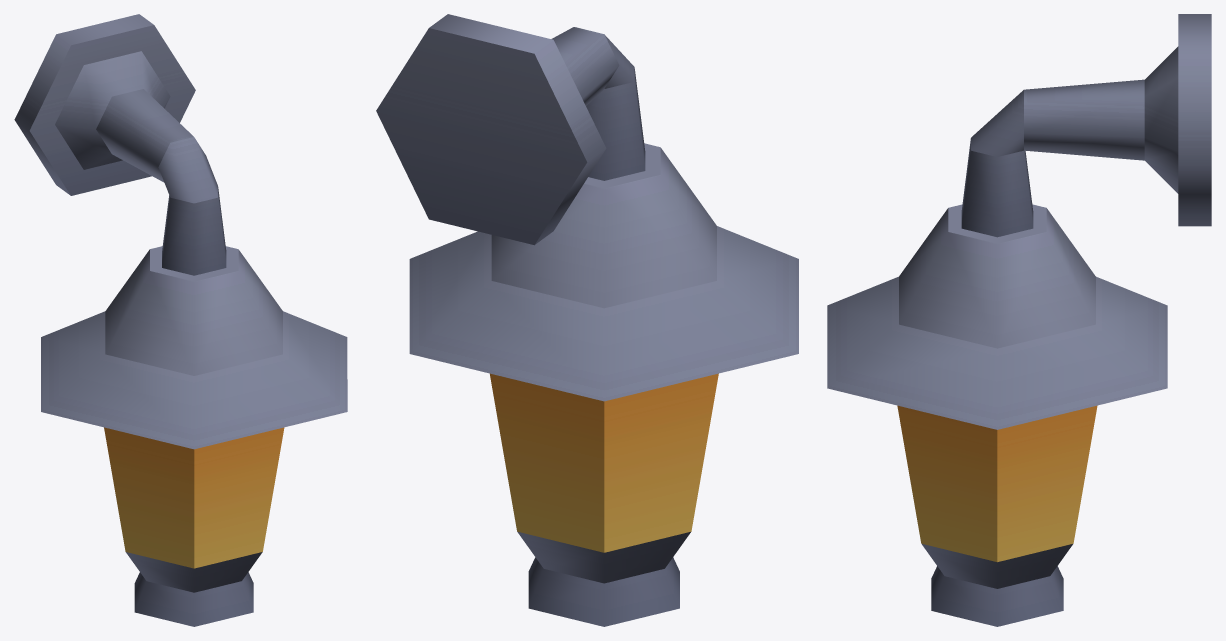
File: lantern-hanging.glb
The picture shows the model from 3 angles, left to right: view 1: azimuth 30°, elevation 25°; view 2: azimuth 150°, elevation 25°; view 3: azimuth 270°, elevation 25°; orthographic projection. The views are drawn at different scales.
Parts seen in each view (by area): view 1: lantern-hanging; view 2: lantern-hanging; view 3: lantern-hanging.
Part boxes in pixels (x1,y1,x2,y2): lantern-hanging: [14, 14, 347, 626]; lantern-hanging: [376, 14, 798, 626]; lantern-hanging: [827, 14, 1211, 626].
Size of the model in its own units: 0.4254 by 0.6671 by 0.4162.
1 material, 1 textured.
